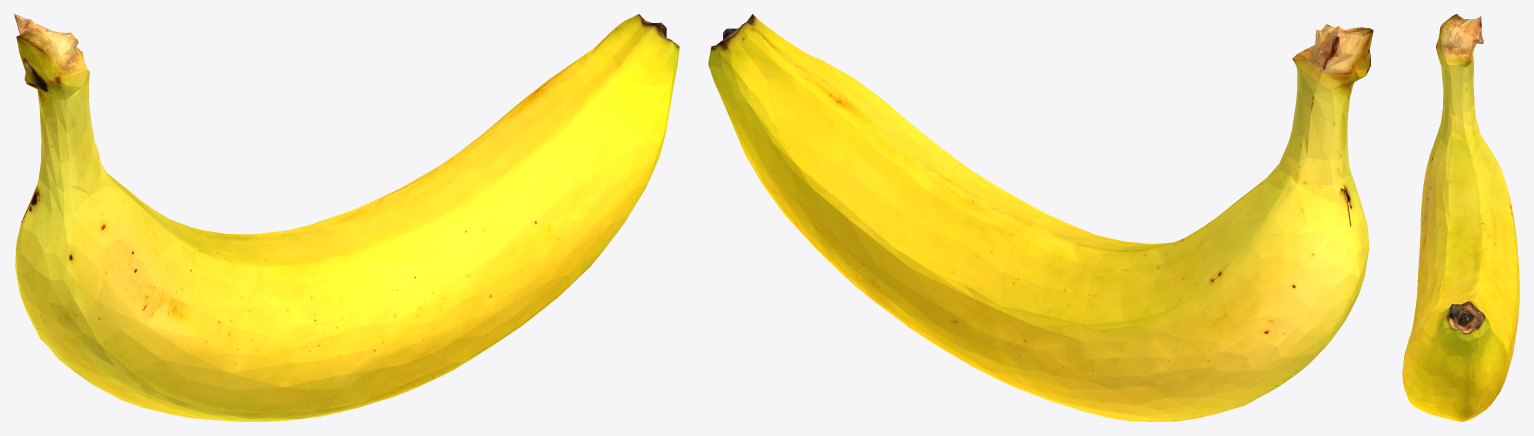
The model's file is banana-v1.glb.
The picture shows the model from 3 angles, left to right: view 1: azimuth 30°, elevation 25°; view 2: azimuth 150°, elevation 25°; view 3: azimuth 270°, elevation 25°; orthographic projection. The views are drawn at different scales.
Visible parts, largest first — view 1: banana; view 2: banana; view 3: banana.
Part boxes in pixels (x1=…): banana: x1=14, y1=14, x2=679, y2=421; banana: x1=708, y1=14, x2=1373, y2=421; banana: x1=1402, y1=14, x2=1519, y2=421.
Size of the model in its own units: 6.79 by 4.43 by 1.62.
Materials: 1 (1 with a texture image).
